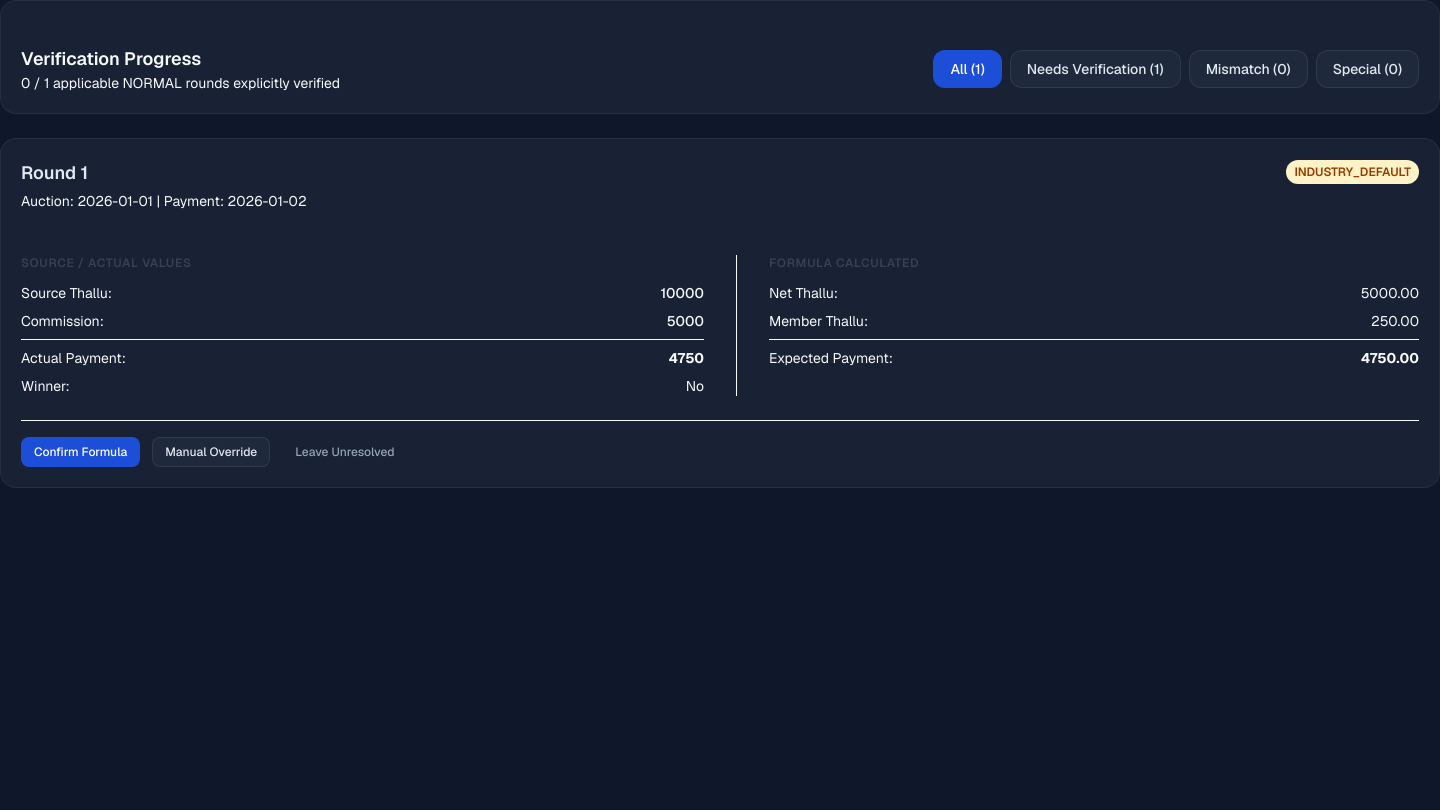
Test: VerifyClient Component › Displays error message when server action fails
The image size is (1440, 810).
Click the button "Confirm Formula" at (81, 452), box [21, 437, 140, 467]
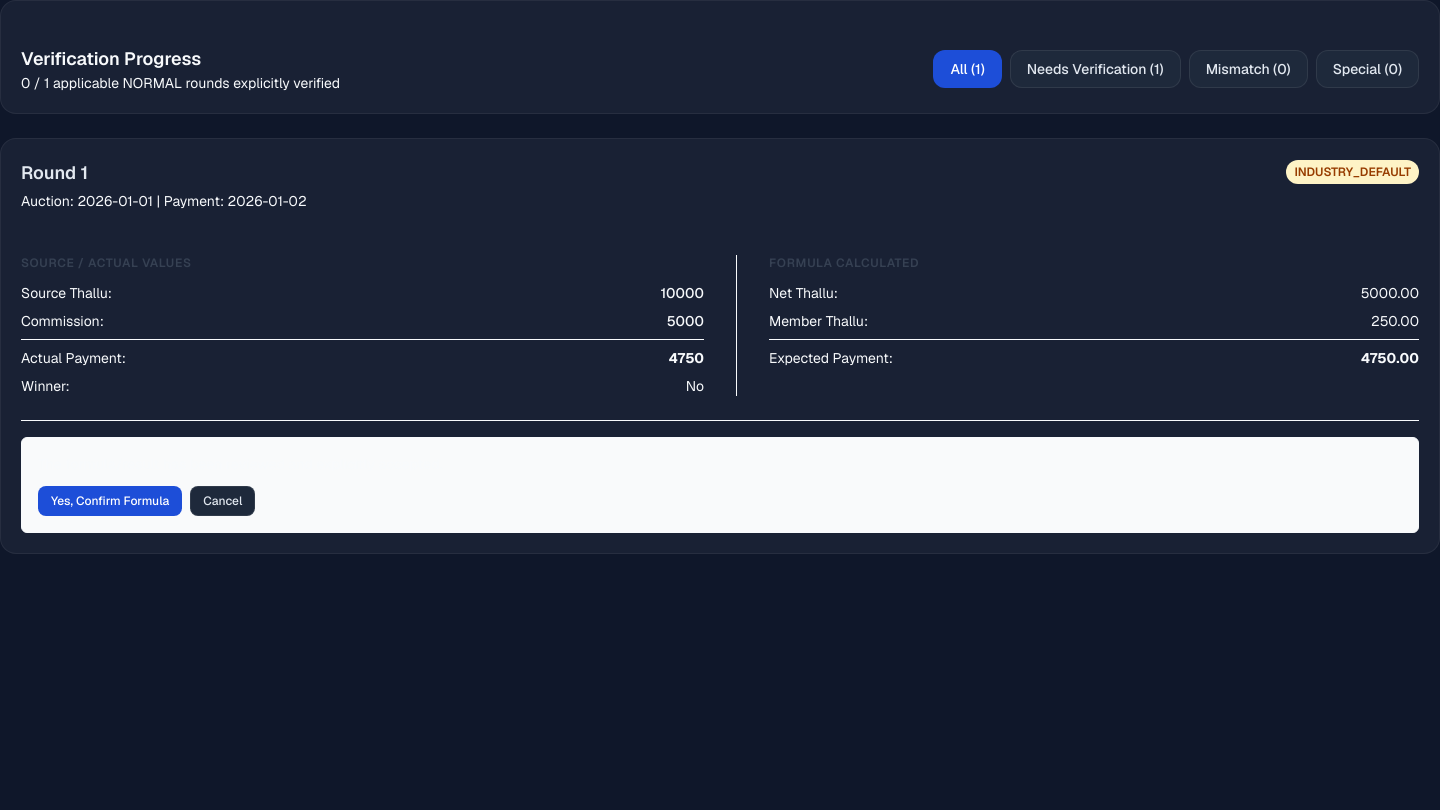
Click the button "Yes, Confirm Formula" at (110, 501), box [38, 486, 182, 516]
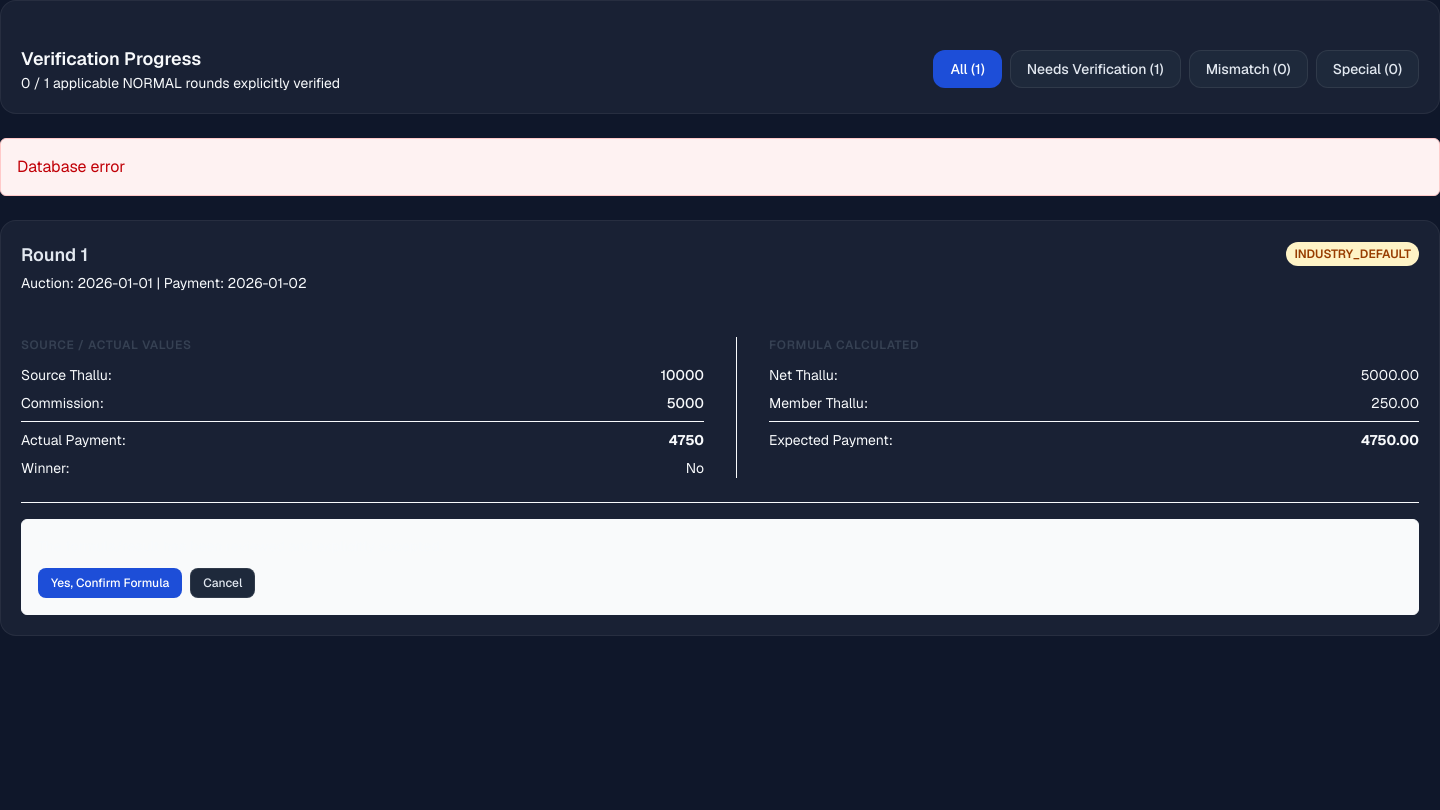
Now the text "Database error" is shown, box [0, 138, 1439, 196]
